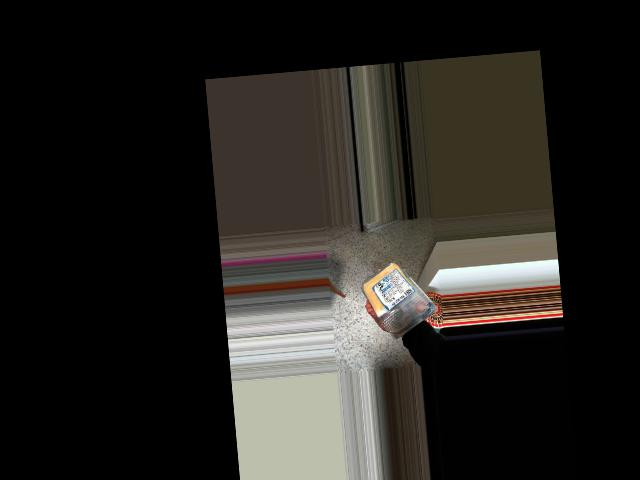cheese: (369, 256, 432, 330)
